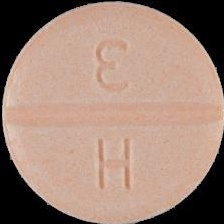69189-1840: (0, 0, 224, 224)
